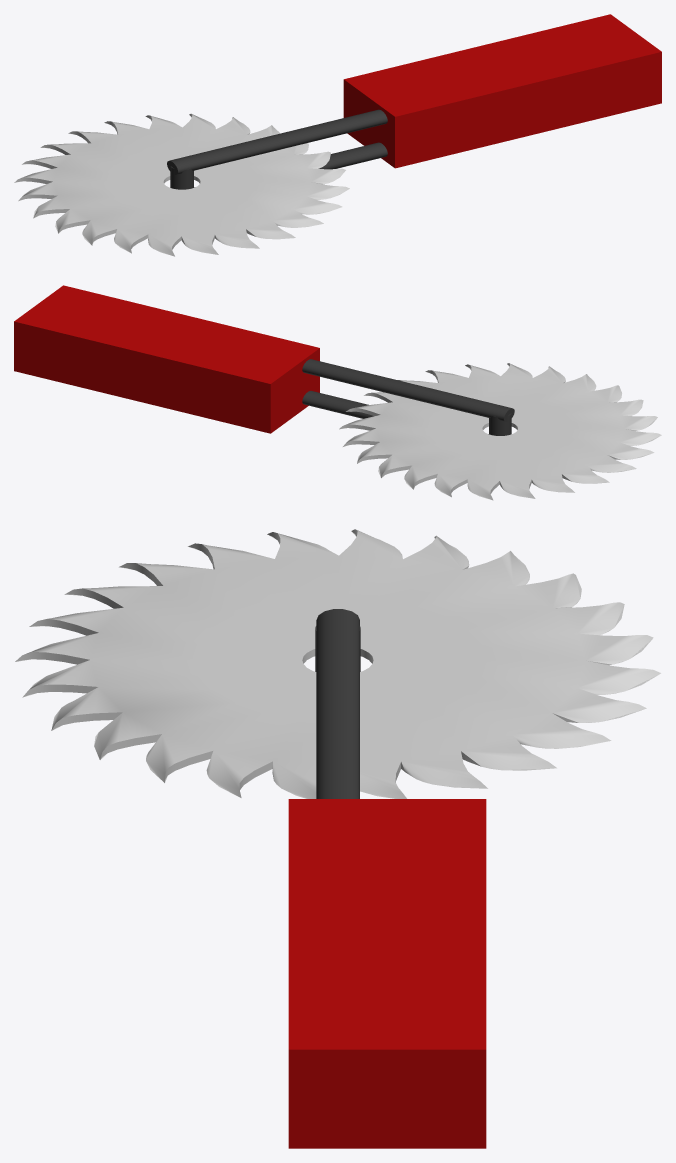
Rendered from Saw.obj.
3 views of the same model, one above another, from view 1: azimuth 30°, elevation 25°; view 2: azimuth 150°, elevation 25°; view 3: azimuth 270°, elevation 25° (orthographic). The views are drawn at different scales.
Visible parts, largest first — view 1: saw, BOX, OBJECT1; view 2: saw, BOX, OBJECT1; view 3: saw, BOX, OBJECT1.
Boxes of the visible parts, <box> form: saw: <box>14,113,349,256</box>; BOX: <box>343,14,661,168</box>; OBJECT1: <box>167,109,387,189</box>; saw: <box>339,363,661,500</box>; BOX: <box>14,285,319,433</box>; OBJECT1: <box>302,359,514,435</box>; saw: <box>15,529,660,798</box>; BOX: <box>288,799,486,1148</box>; OBJECT1: <box>315,609,360,798</box>.
Bounding box in the file's own units: 275 × 22.17 × 131.
